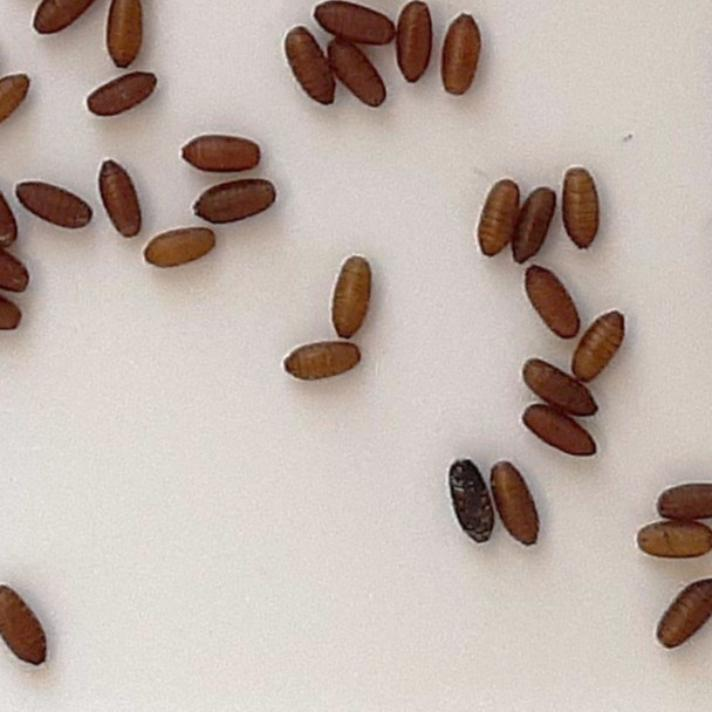pupae: (487, 461, 550, 549), (648, 574, 712, 658), (447, 454, 503, 550), (439, 5, 490, 108), (1, 578, 56, 672), (90, 154, 146, 246), (522, 352, 602, 416), (523, 264, 583, 348), (283, 25, 343, 109), (80, 65, 168, 122), (325, 41, 393, 111), (15, 176, 97, 234), (571, 310, 635, 384), (188, 176, 282, 226), (521, 404, 601, 461), (390, 1, 440, 92), (557, 162, 605, 253), (305, 1, 397, 48), (172, 132, 270, 176), (509, 182, 557, 270), (270, 342, 370, 384), (139, 222, 219, 274), (473, 180, 522, 262), (330, 250, 376, 336), (636, 514, 710, 562), (98, 1, 144, 68), (25, 0, 97, 38), (652, 483, 712, 523), (0, 68, 36, 120), (0, 242, 32, 292), (0, 294, 27, 332)
